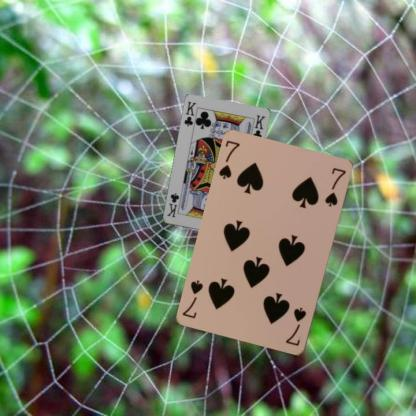7s: (216, 138, 242, 181), (283, 305, 308, 348)
Kc: (182, 99, 198, 128)
